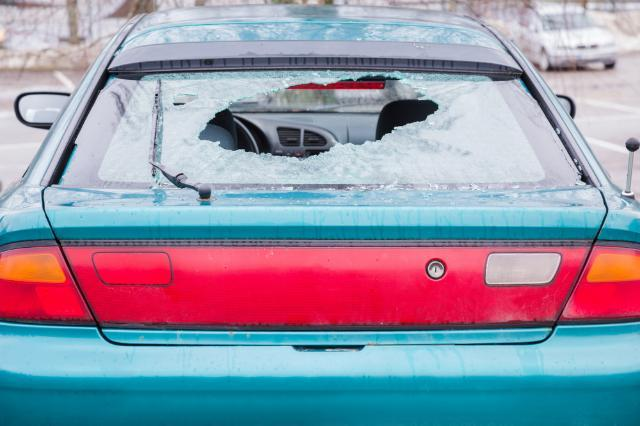glass shatter: (51, 68, 590, 191)
